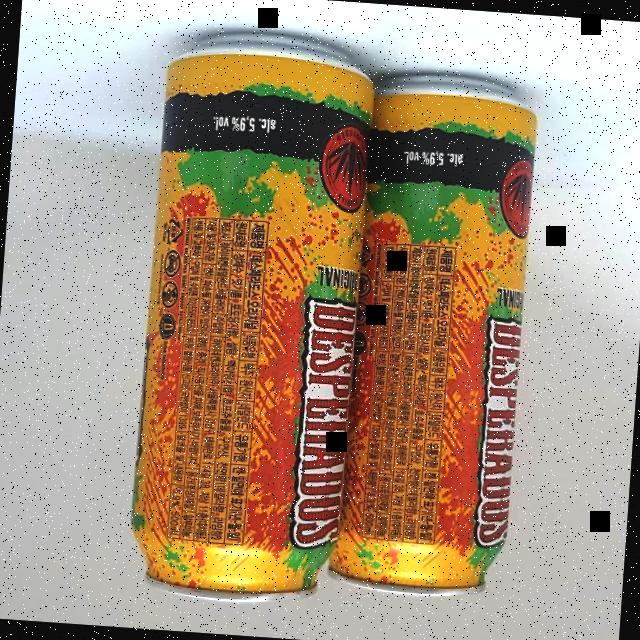can: (125, 24, 378, 608), (326, 69, 540, 602)
